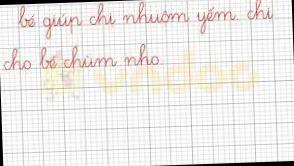text: (16, 0, 276, 41), (91, 44, 257, 99), (2, 42, 159, 72)
